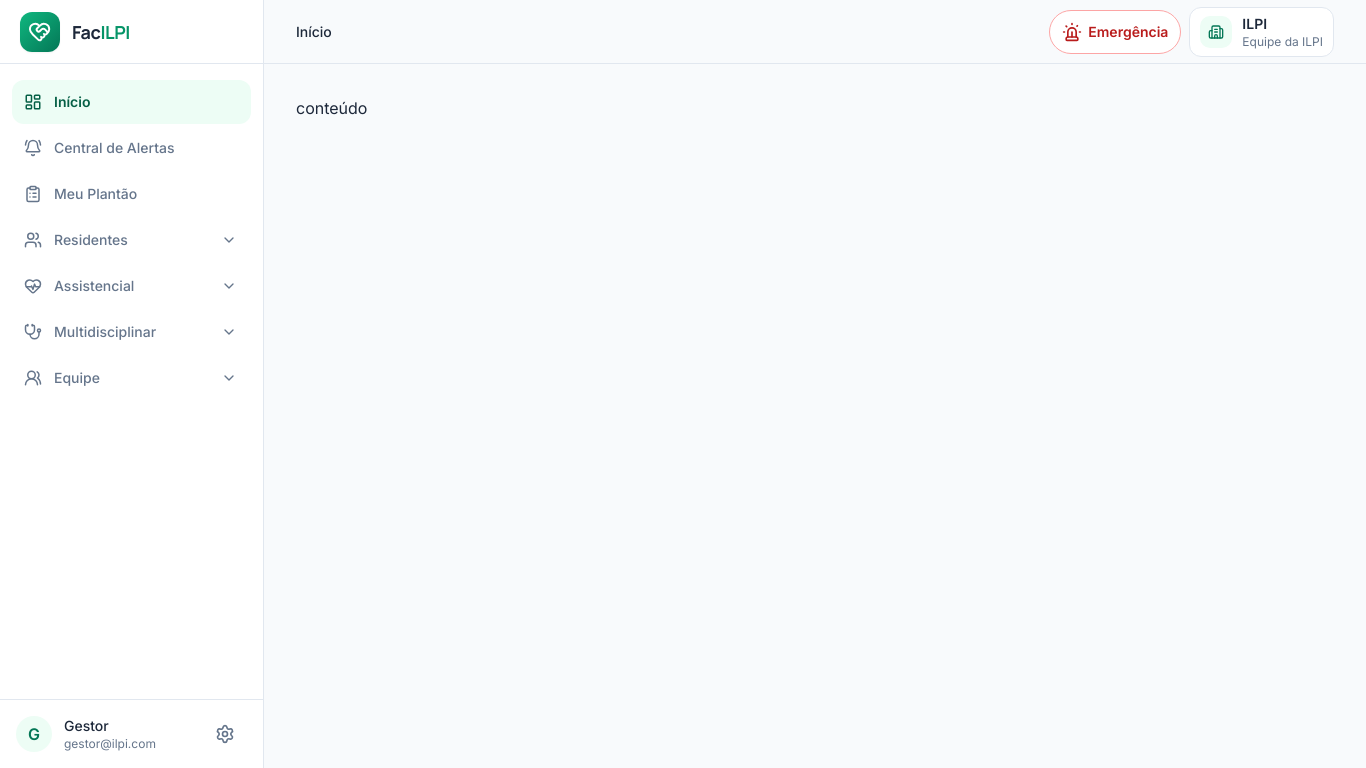
Test case: PH-01/5 — avatar não desloga › o avatar não é botão e existe uma ação "Sair" explícita
Expected: the text "conteúdo" is shown, left=296, top=98, right=368, bottom=118
What coordinates should you click on to do the following:
click the button named "Menu da conta"
I would click on:
 (225, 734)
Its box is left=203, top=712, right=247, bottom=756.
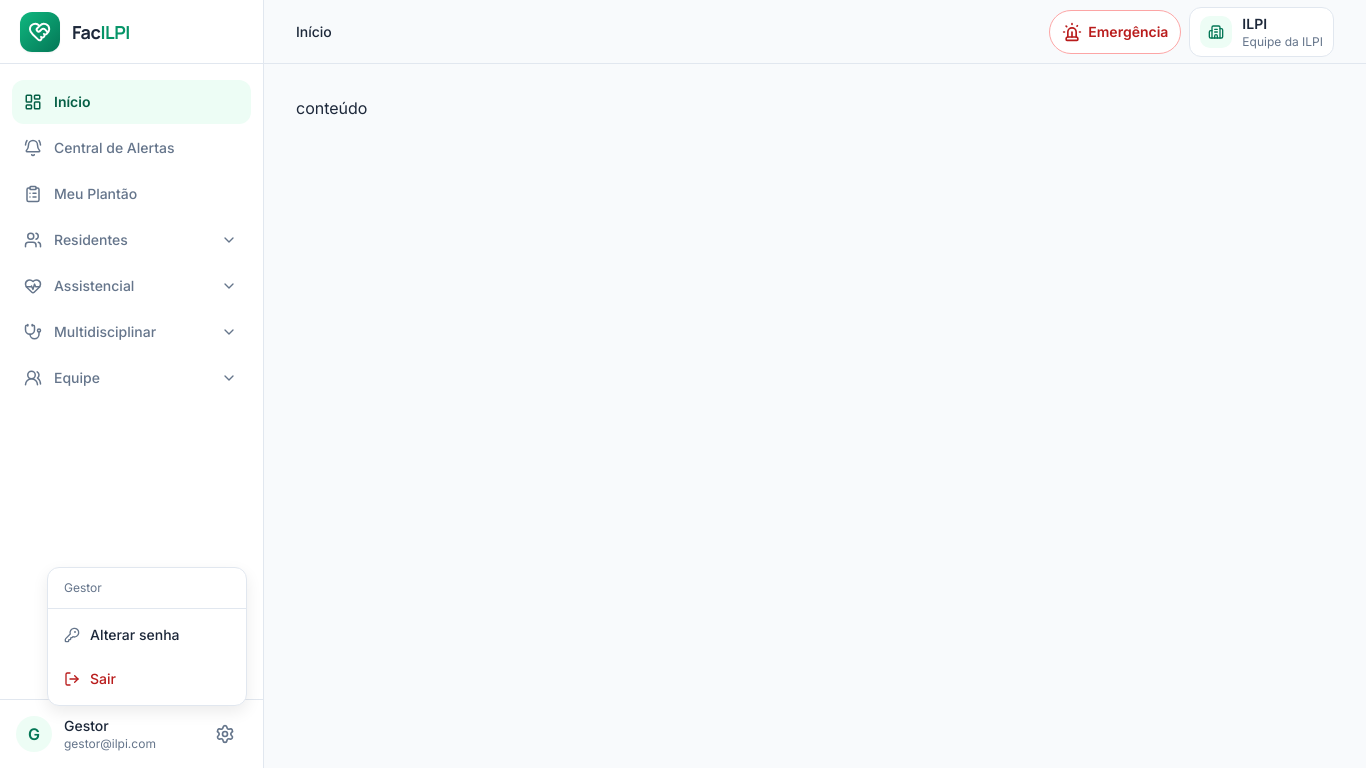
Result: the menu item "Sair" is shown at left=64, top=670, right=116, bottom=687
